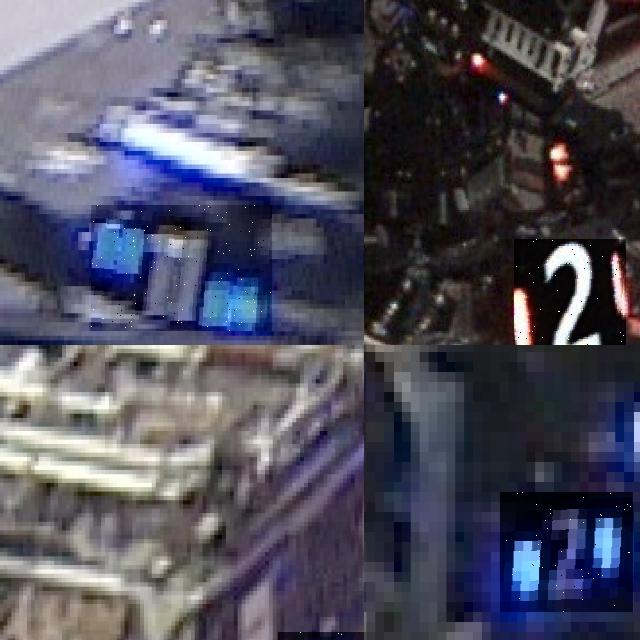B2: (500, 492, 633, 612)
R1: (91, 205, 272, 331)
R2: (513, 239, 626, 345)
